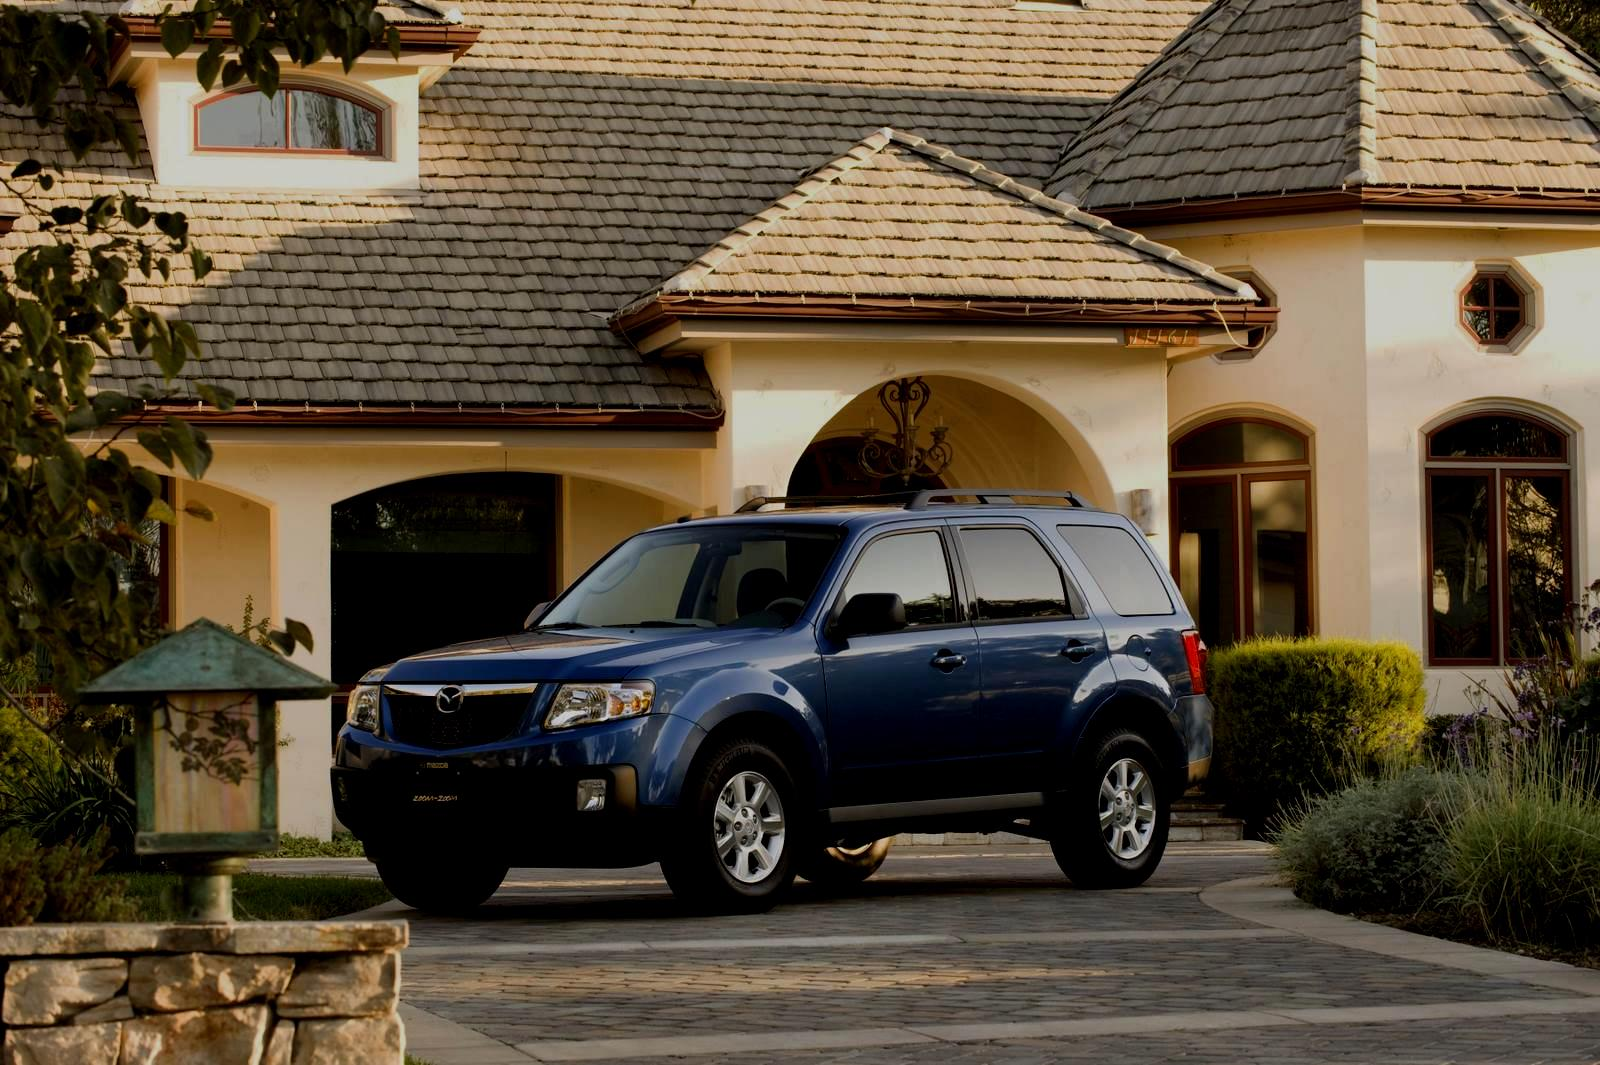Mazda: (428, 674, 483, 723)
